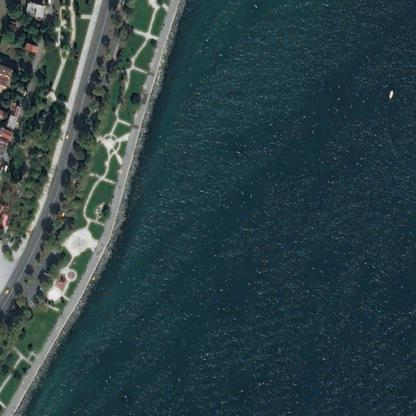ship: (387, 89, 392, 97)
